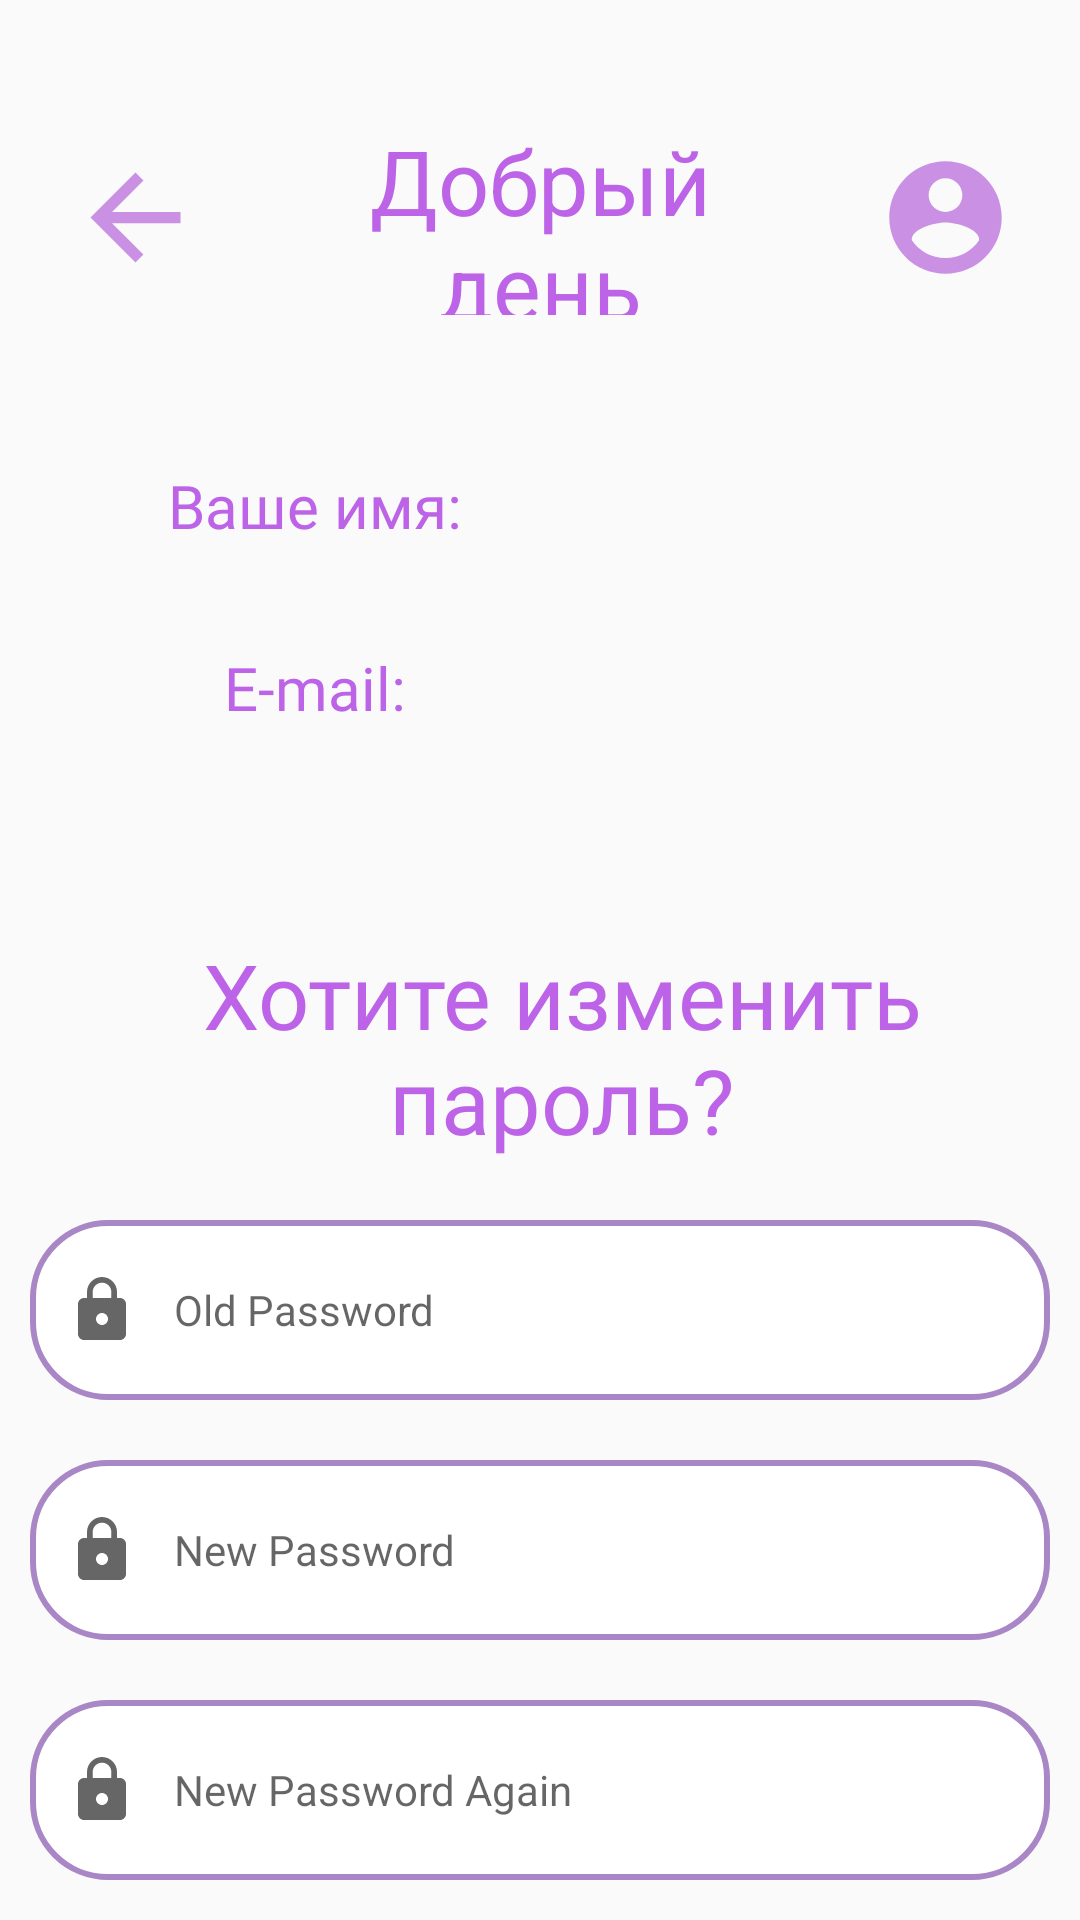

Screen size 1080×1920. Icon name, then its center in pixels as point (x, y):
account circle: point (945, 217)
arrow back: point (135, 217)
